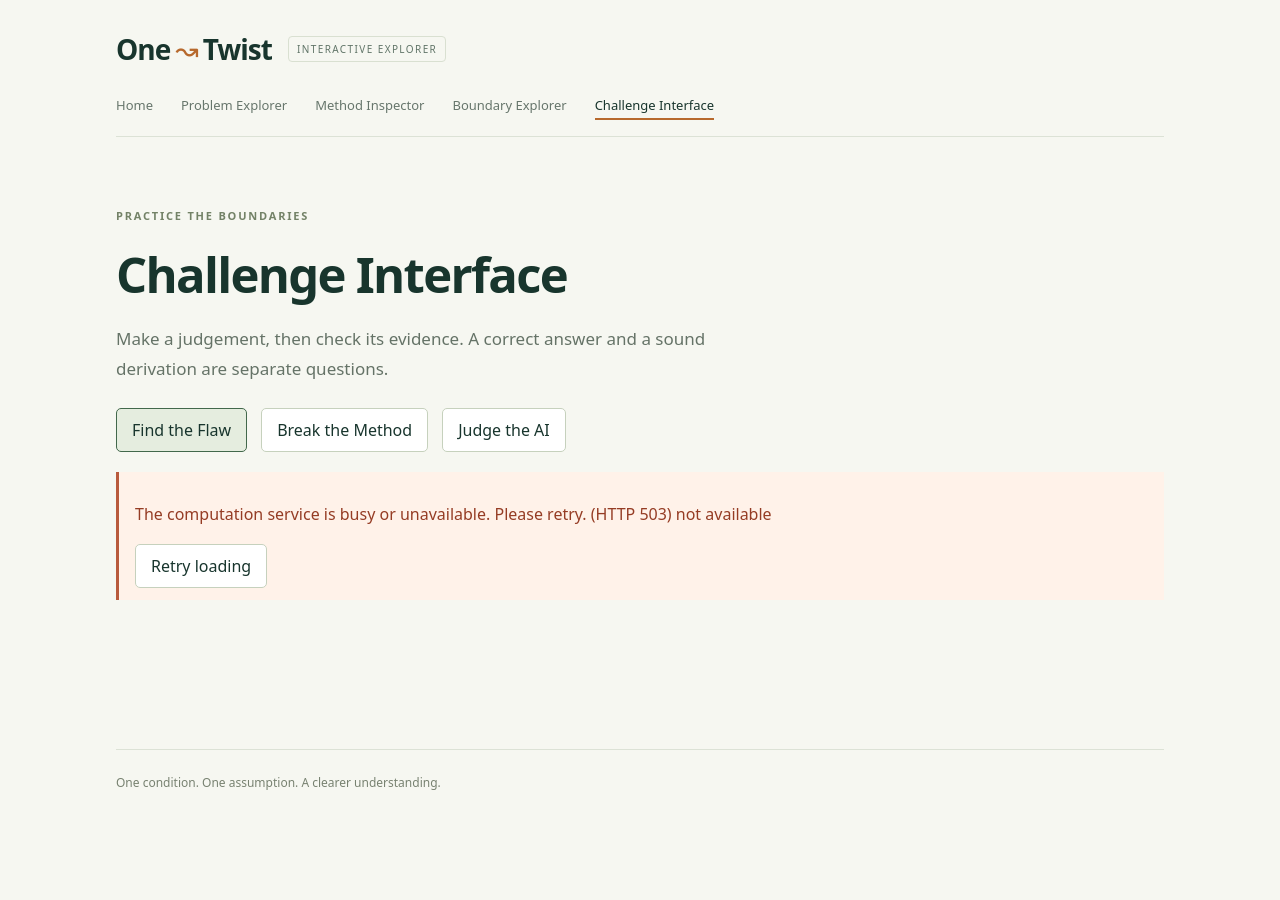
Test case: handles empty content and retries failed content loading
Expected: the message shows "HTTP 503", [135,502,772,524]
Click the button "Retry loading" at (201, 566), box [135,544,267,588]
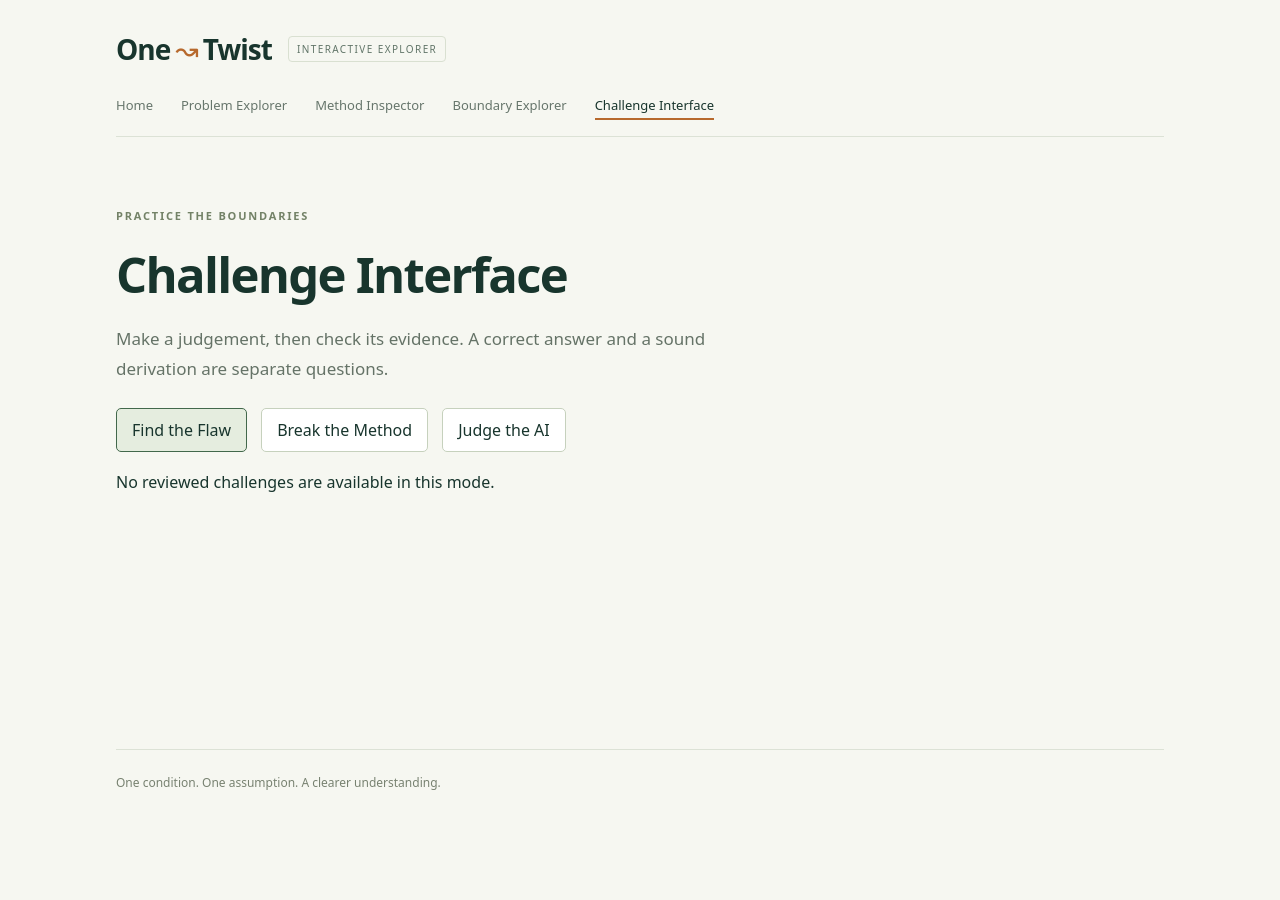
Now the text "No reviewed challenges are available in this mode." is shown, box [116,470,494,492]
